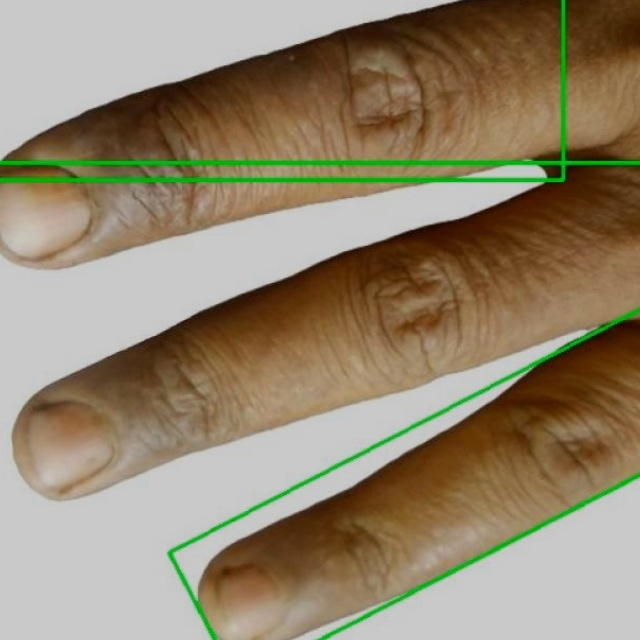Eczema: (0, 163, 639, 639), (169, 309, 639, 639), (0, 0, 563, 180)
